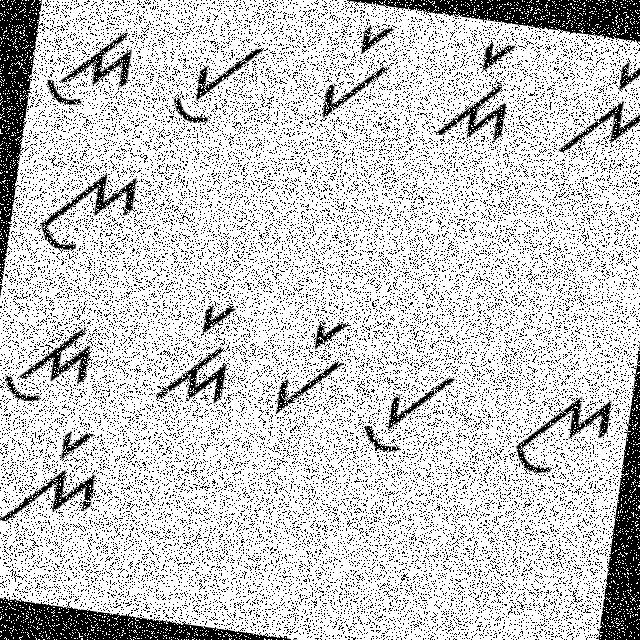dar: (146, 290, 247, 413), (432, 29, 528, 152)
daw: (35, 8, 142, 131), (0, 301, 109, 421)
nar: (0, 415, 113, 540), (551, 44, 639, 169)
naw: (502, 370, 620, 492), (26, 156, 148, 270)
par: (262, 304, 359, 430), (310, 7, 402, 133)
paw: (158, 16, 267, 138), (351, 348, 460, 464)
